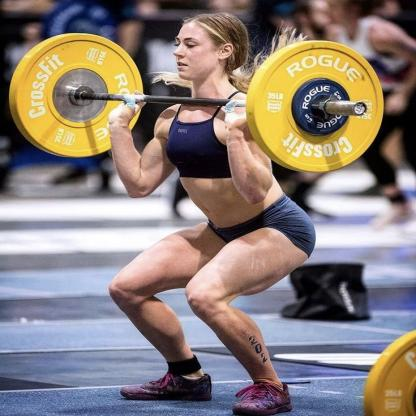barbell: (246, 41, 386, 175), (9, 34, 145, 159)
